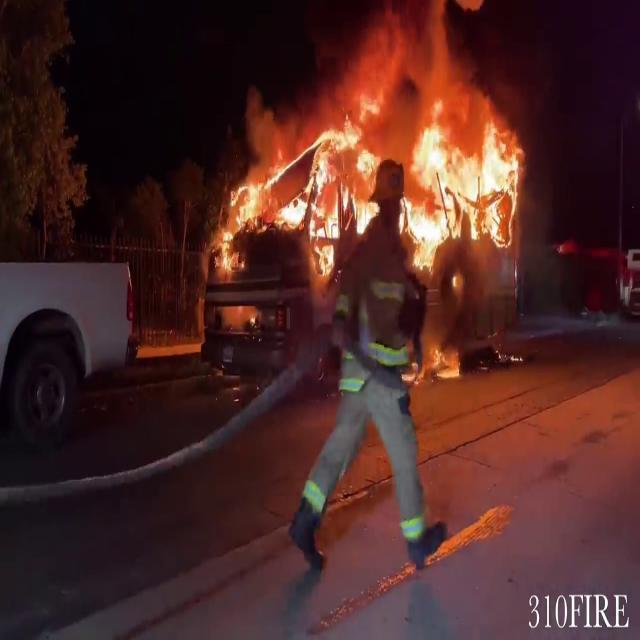Fire: (210, 63, 533, 289)
